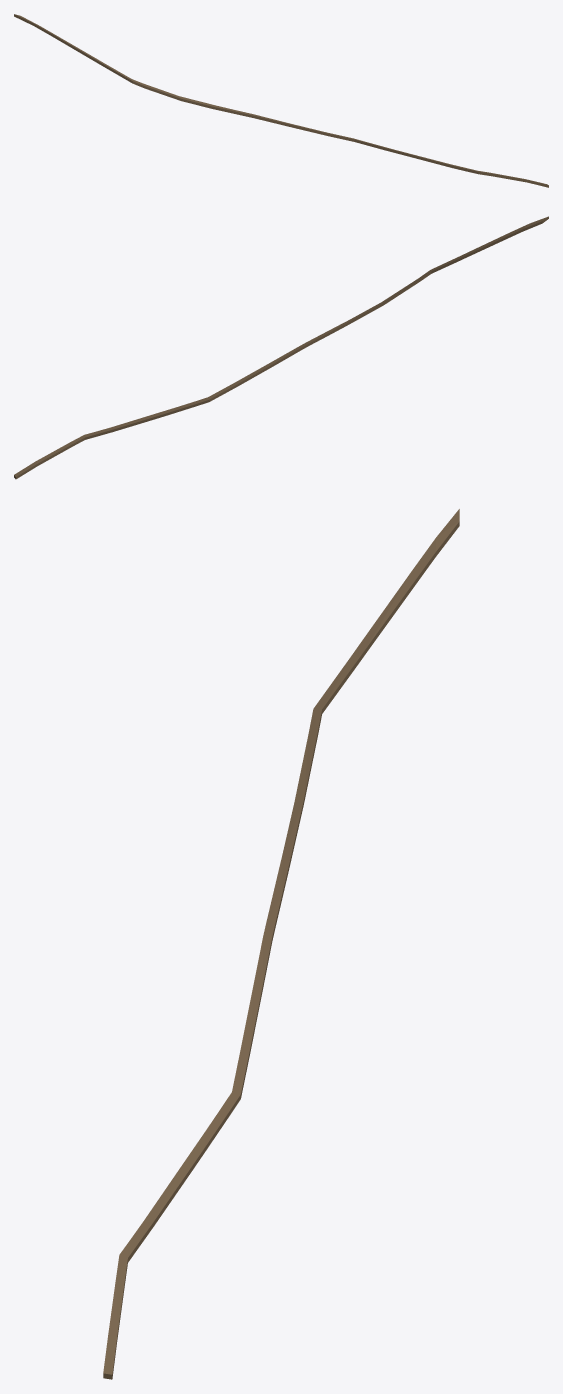
The picture shows the model from 3 angles, top to bottom: view 1: azimuth 30°, elevation 25°; view 2: azimuth 210°, elevation 25°; view 3: azimuth 270°, elevation 25°; orthographic projection. The views are drawn at different scales.
Size of the model in its own units: 134 by 62.55 by 46.37.
